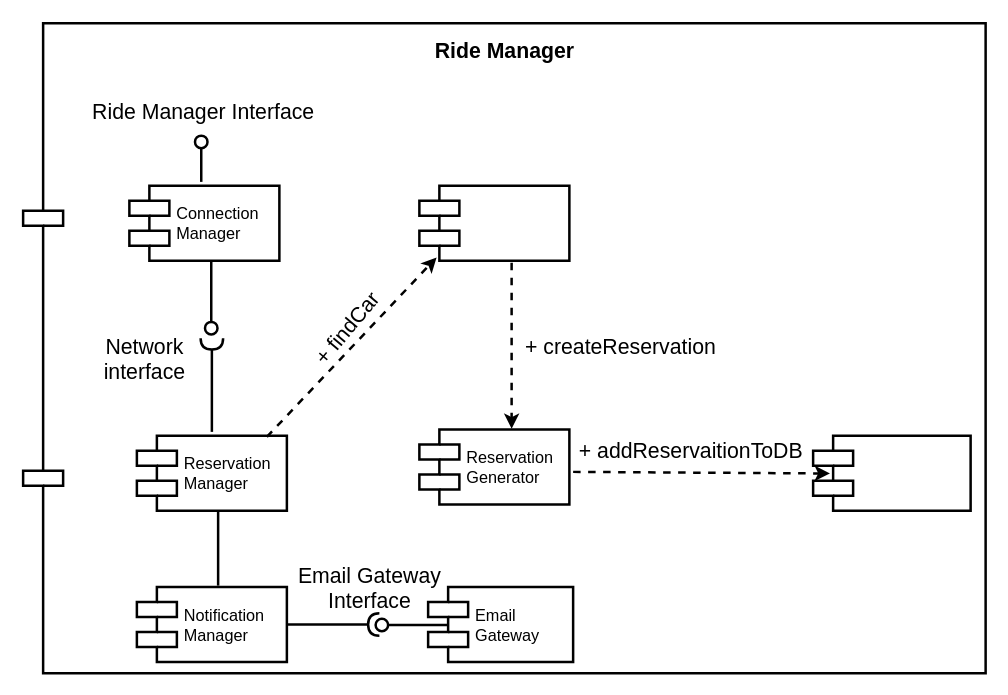
The diagram is 1008 pixels wide and 695 high, and some of its shapes have lost their labels. The shapes that lost their labels are listed below. From the top down, each one's box as (x1, y1, x2, y2) in pixels, then its label:
(418, 184, 570, 261): Car Manager
(811, 434, 971, 511): DB Access Component
